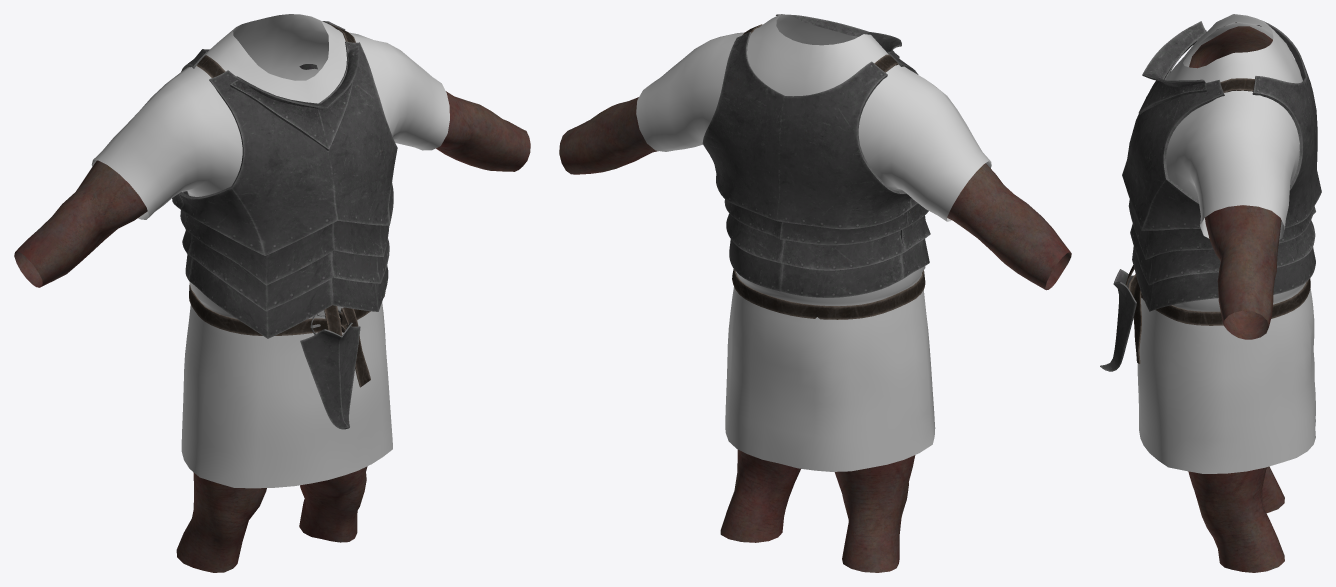
Rendered from sk_uruk_hai_plate_elite_a1.fbx.
3 renders of one model, left to right at view 1: azimuth 30°, elevation 25°; view 2: azimuth 150°, elevation 25°; view 3: azimuth 270°, elevation 25°, orthographic. The views are drawn at different scales.
Visible parts, largest first — view 1: sk_uruk_hai_plate_elite_a1.0, sk_uruk_hai_plate_elite_a1.2, sk_uruk_hai_plate_elite_a1.body.1, sk_uruk_hai_plate_elite_a1.body.0, sk_uruk_hai_plate_elite_a1.1; view 2: sk_uruk_hai_plate_elite_a1.0, sk_uruk_hai_plate_elite_a1.2, sk_uruk_hai_plate_elite_a1.body.1, sk_uruk_hai_plate_elite_a1.body.0, sk_uruk_hai_plate_elite_a1.1; view 3: sk_uruk_hai_plate_elite_a1.0, sk_uruk_hai_plate_elite_a1.2, sk_uruk_hai_plate_elite_a1.body.1, sk_uruk_hai_plate_elite_a1.body.0, sk_uruk_hai_plate_elite_a1.1.
Part boxes in pixels (bbox=[...]): sk_uruk_hai_plate_elite_a1.0: bbox=[91, 14, 449, 488]; sk_uruk_hai_plate_elite_a1.2: bbox=[172, 21, 397, 429]; sk_uruk_hai_plate_elite_a1.body.1: bbox=[14, 91, 530, 287]; sk_uruk_hai_plate_elite_a1.body.0: bbox=[176, 466, 367, 572]; sk_uruk_hai_plate_elite_a1.1: bbox=[189, 24, 385, 387]; sk_uruk_hai_plate_elite_a1.0: bbox=[636, 14, 991, 471]; sk_uruk_hai_plate_elite_a1.2: bbox=[702, 14, 930, 297]; sk_uruk_hai_plate_elite_a1.body.1: bbox=[559, 97, 1071, 290]; sk_uruk_hai_plate_elite_a1.body.0: bbox=[720, 449, 915, 572]; sk_uruk_hai_plate_elite_a1.1: bbox=[732, 24, 925, 319]; sk_uruk_hai_plate_elite_a1.0: bbox=[1137, 14, 1315, 473]; sk_uruk_hai_plate_elite_a1.2: bbox=[1100, 20, 1321, 371]; sk_uruk_hai_plate_elite_a1.body.1: bbox=[1189, 26, 1281, 339]; sk_uruk_hai_plate_elite_a1.body.0: bbox=[1188, 466, 1284, 572]; sk_uruk_hai_plate_elite_a1.1: bbox=[1125, 22, 1310, 363].
Bounding box in the file's own units: 1.2 × 0.4777 × 1.19.
